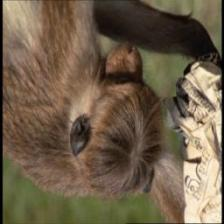monkey: (60, 35, 166, 204)
